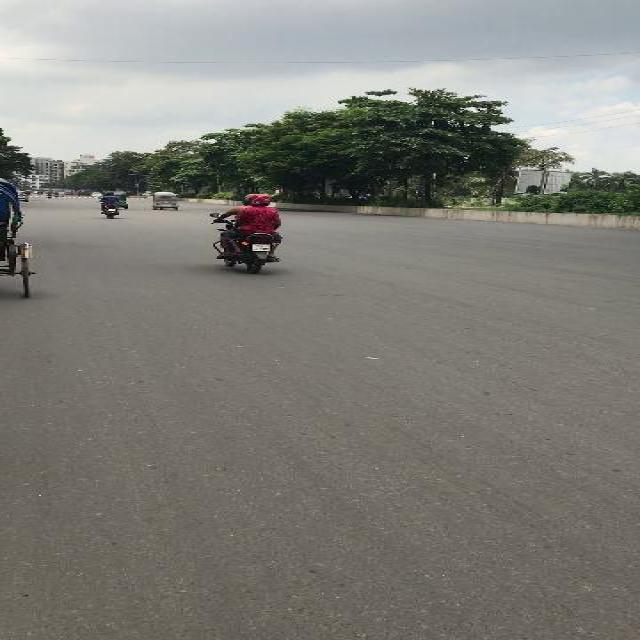bike: (210, 194, 286, 277), (96, 201, 119, 220), (46, 191, 52, 199), (54, 192, 58, 198)
vehicle: (1, 177, 17, 299), (153, 191, 180, 212), (118, 191, 129, 209), (19, 191, 29, 203), (64, 188, 73, 196), (89, 193, 101, 198)
